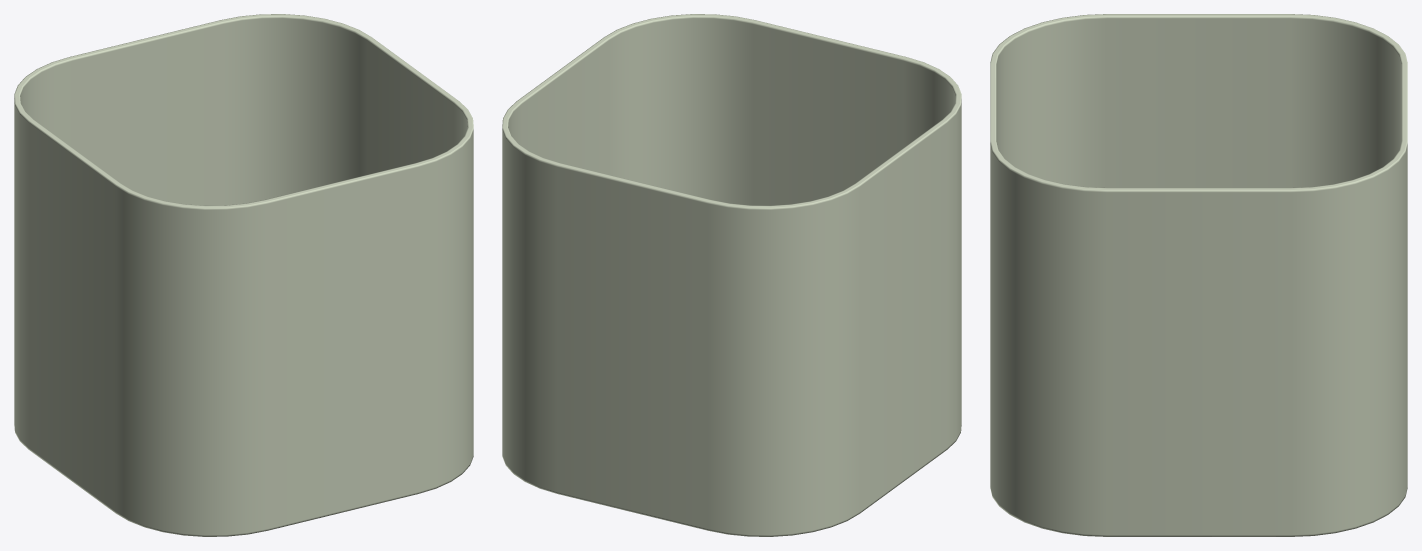
The model's file is Lampshade_Low.fbx.
3 views of the same model, side by side, from view 1: azimuth 30°, elevation 25°; view 2: azimuth 150°, elevation 25°; view 3: azimuth 270°, elevation 25° (orthographic). The views are drawn at different scales.
Visible parts, largest first — view 1: LampShade.002; view 2: LampShade.002; view 3: LampShade.002.
Part boxes in pixels (x1=…): LampShade.002: x1=14, y1=14, x2=473, y2=536; LampShade.002: x1=502, y1=14, x2=961, y2=536; LampShade.002: x1=990, y1=14, x2=1407, y2=536.
Bounding box in the file's own units: 24.32 × 22.26 × 24.32.
